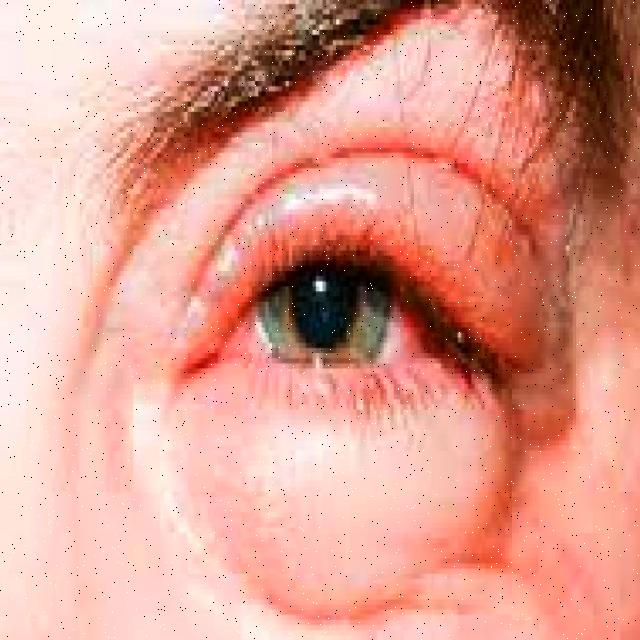puffy_eyes: (138, 400, 531, 617)
